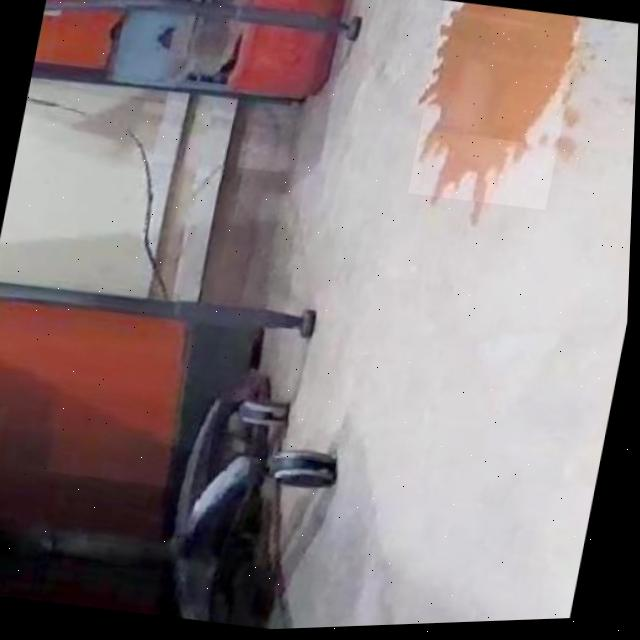spillage: (424, 6, 583, 205)
